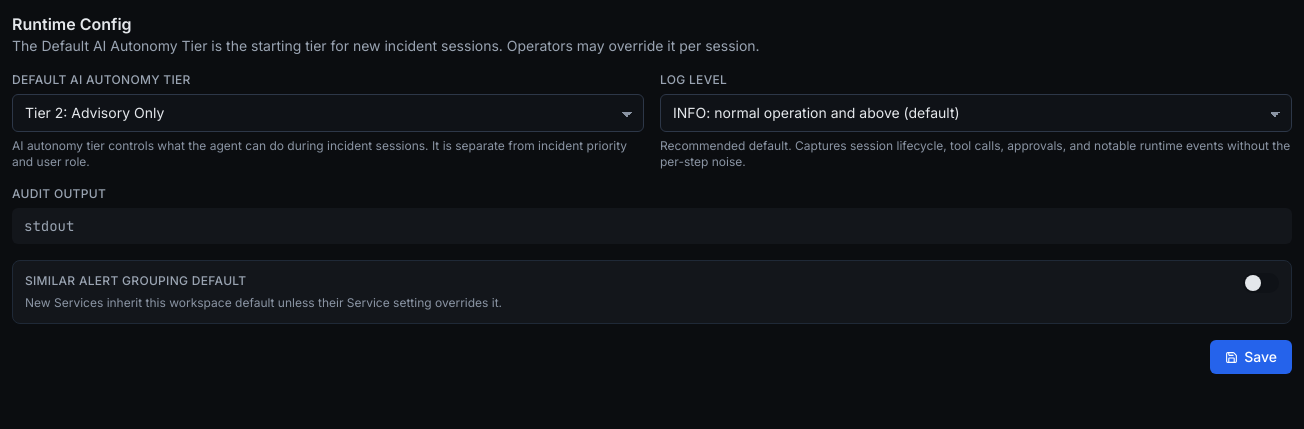
Default AI Autonomy Tier control › defaults to Tier 2 and shows a red warning when Tier 0 is selected
Expected: the text "autonomous remediation" is not shown
Select "Tier 0: Autonomous" in the dropdown labelled "Default AI Autonomy Tier" at (328, 113), box [12,94,644,132]
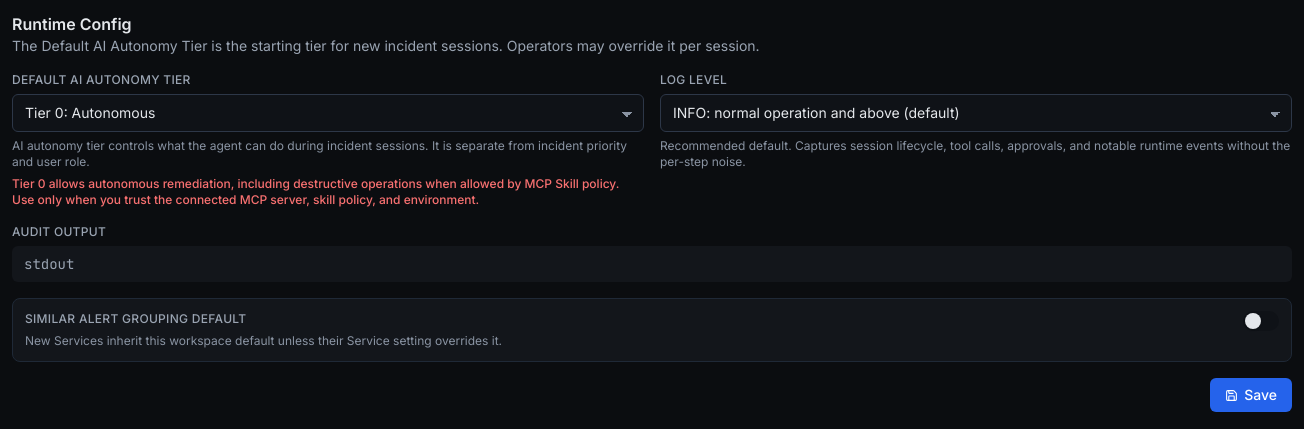
Result: the text "autonomous remediation, including destructive" is shown at [12,176,619,207]
